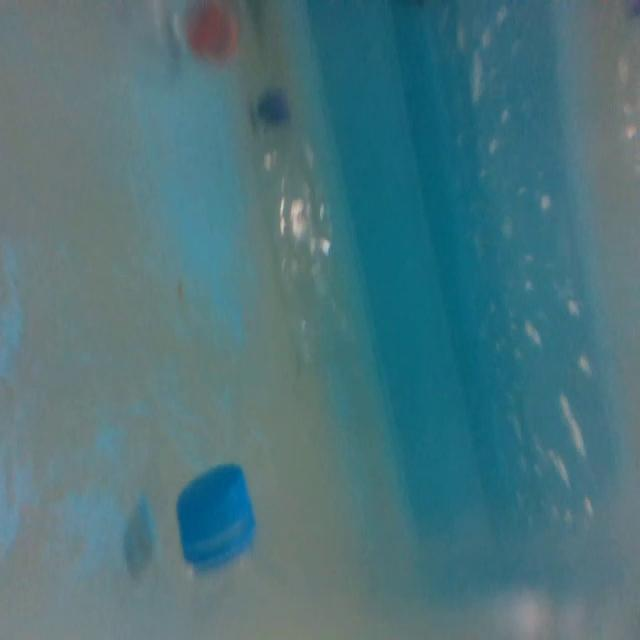plastic bottle: (245, 81, 369, 401)
